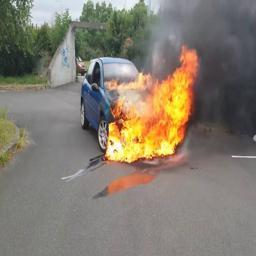fire: (105, 47, 200, 163)
